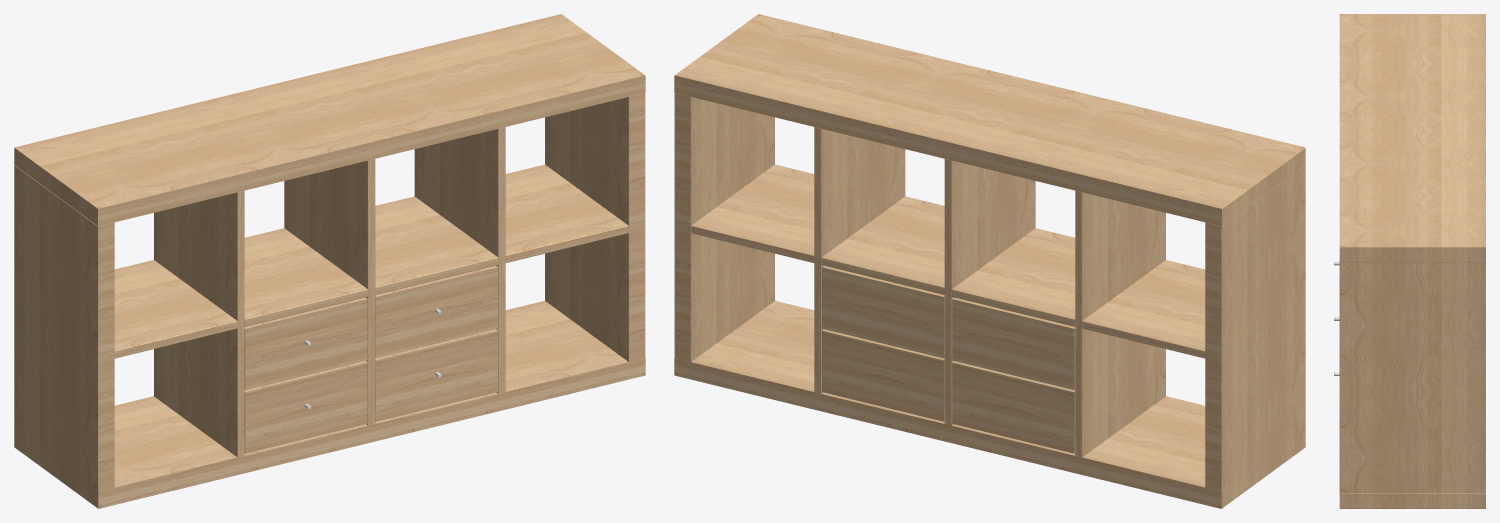
The model's file is kallax.glb.
The picture shows the model from 3 angles, left to right: view 1: azimuth 30°, elevation 25°; view 2: azimuth 150°, elevation 25°; view 3: azimuth 270°, elevation 25°; orthographic projection. The views are drawn at different scales.
Parts seen in each view (by area): view 1: IKE170013; view 2: IKE170013; view 3: IKE170013.
Boxes of the visible parts, x1,y1,x2,y2 form: IKE170013: (14,14,645,508); IKE170013: (674,14,1305,508); IKE170013: (1334,14,1485,508).
Bounding box in the file's own units: 1471 × 770 × 405.
2 materials, 1 textured.
